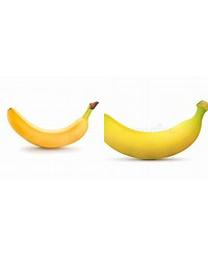banana: (102, 97, 207, 159), (6, 98, 99, 148)
